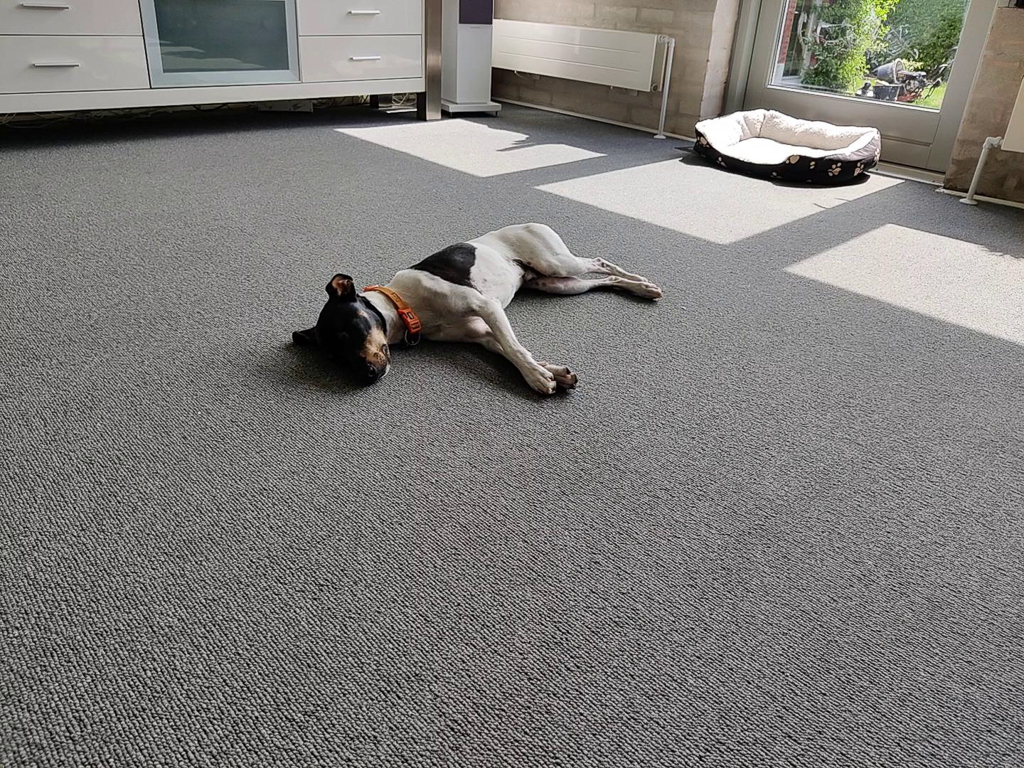Dog: (264, 210, 680, 412)
Humanoid: (850, 79, 878, 103)
